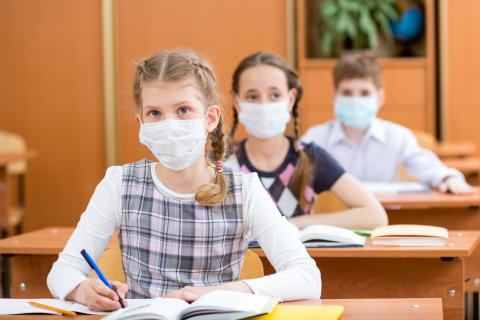with_mask: (139, 98, 209, 171), (238, 81, 291, 138), (337, 80, 375, 131)
